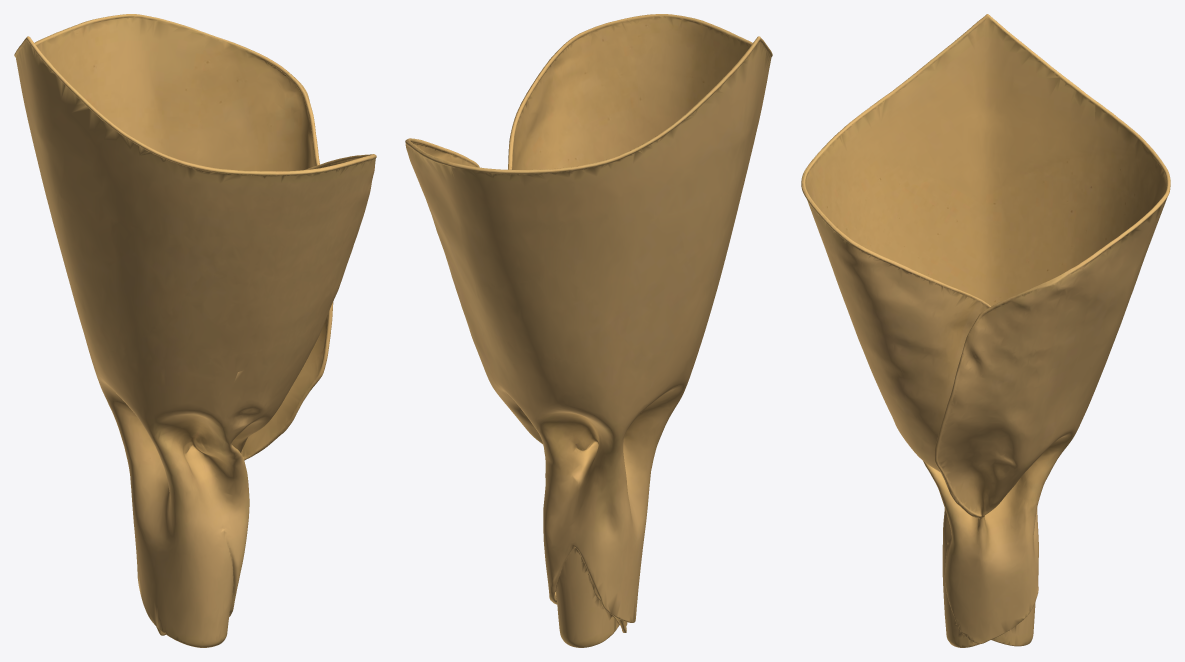
Rendered from golden napkin 3d model_opt.glb.
The picture shows the model from 3 angles, left to right: view 1: azimuth 30°, elevation 25°; view 2: azimuth 150°, elevation 25°; view 3: azimuth 270°, elevation 25°; orthographic projection. The views are drawn at different scales.
Visible parts, largest first — view 1: tripo_node_13c24458-3d0f-4f45-8f5e-a0f8fe032422; view 2: tripo_node_13c24458-3d0f-4f45-8f5e-a0f8fe032422; view 3: tripo_node_13c24458-3d0f-4f45-8f5e-a0f8fe032422.
Part boxes in pixels (x1,y1,x2,y2): tripo_node_13c24458-3d0f-4f45-8f5e-a0f8fe032422: (14,14,376,647); tripo_node_13c24458-3d0f-4f45-8f5e-a0f8fe032422: (405,14,772,647); tripo_node_13c24458-3d0f-4f45-8f5e-a0f8fe032422: (801,14,1170,647).
Size of the model in its own units: 0.5188 by 0.9999 by 0.6004.
1 material, 1 textured.
